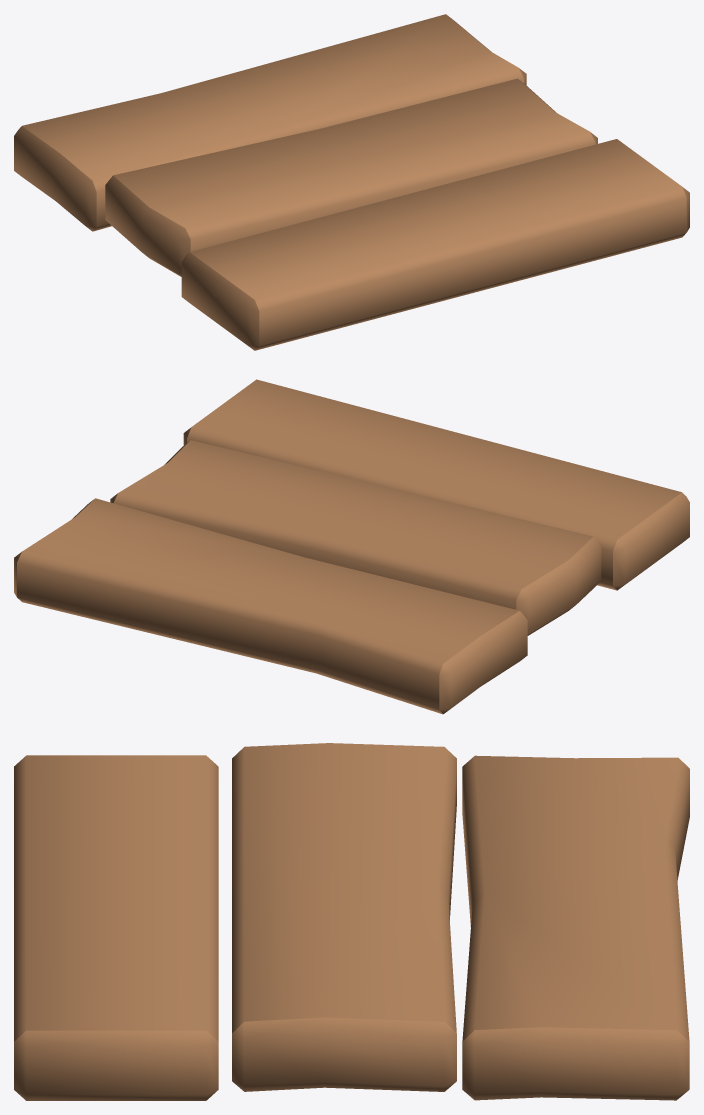
File: SM_Planks.fbx
3 views of the same model, one above another, from view 1: azimuth 30°, elevation 25°; view 2: azimuth 150°, elevation 25°; view 3: azimuth 270°, elevation 25° (orthographic). The views are drawn at different scales.
Parts seen in each view (by area): view 1: SM_Planks; view 2: SM_Planks; view 3: SM_Planks.
Part boxes in pixels (left/top/right/bottom): SM_Planks: left=14, top=14, right=689, bottom=350; SM_Planks: left=14, top=379, right=689, bottom=714; SM_Planks: left=14, top=743, right=689, bottom=1100.
Bounding box in the file's own units: 2.29 × 0.3072 × 2.2.
